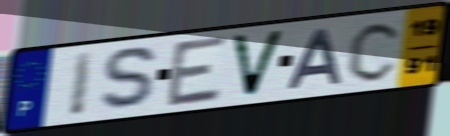A: (284, 26, 346, 92)
C: (345, 19, 404, 84)
E: (164, 33, 230, 110)
I: (66, 48, 96, 120)
S: (97, 44, 163, 113)
V: (228, 28, 288, 100)
